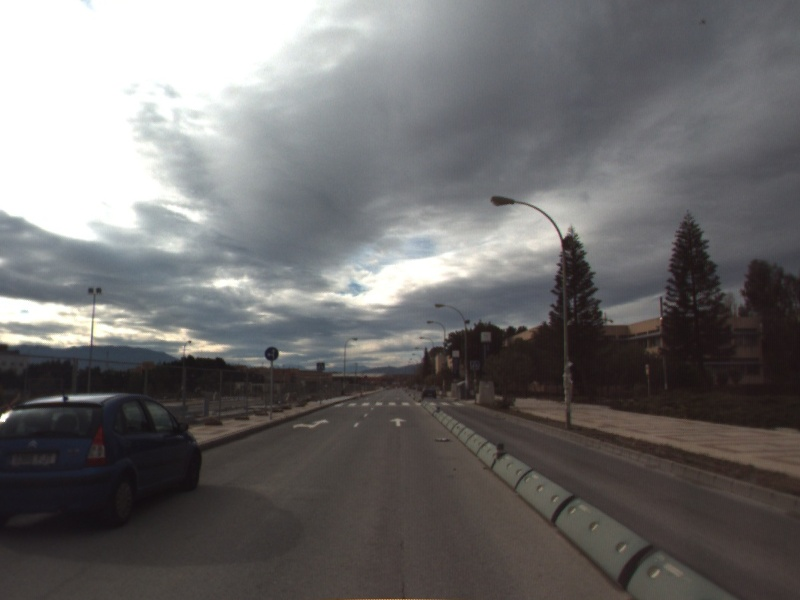STRAIGHT: (388, 416, 409, 428)
STRAIGHT_LEFT: (291, 416, 331, 431)
